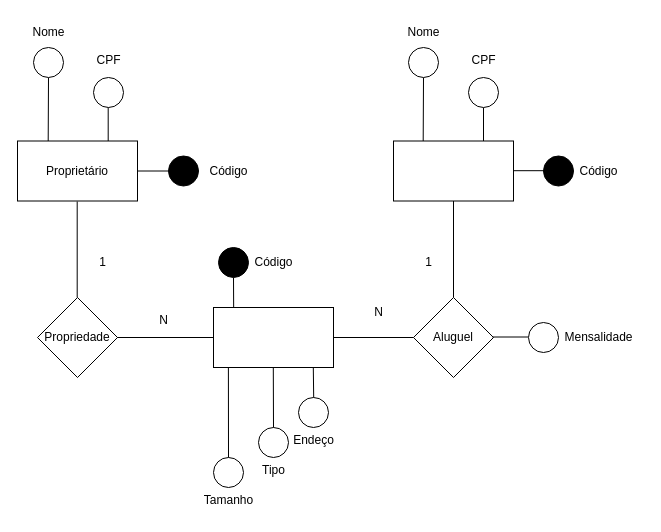
The diagram is 661 pixels wide and 532 high, and some of its shapes have lost their labels. The centre of each missing label's shape, as x and y in pixels:
"Imóvel" goes at point 273,337.
"Inquilino" goes at point 453,170.
